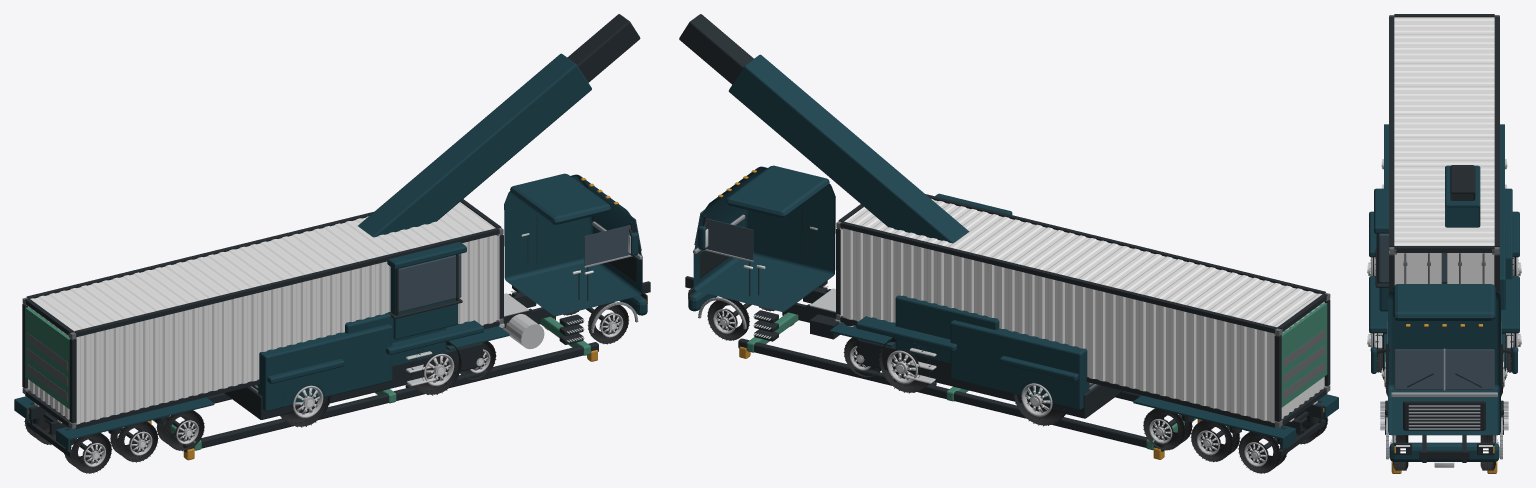
File: terra-fleet.glb
The picture shows the model from 3 angles, left to right: view 1: azimuth 30°, elevation 25°; view 2: azimuth 150°, elevation 25°; view 3: azimuth 270°, elevation 25°; orthographic projection. The views are drawn at different scales.
Parts seen in each view (by area): view 1: payload, tractor_body, crane_body, crane_boom, spreader, trailer, trailer_body, crane_extension, tractor, crane_wheel_1_-1, crane_wheel_0_-1; view 2: payload, tractor_body, crane_body, crane_boom, spreader, trailer, trailer_body, crane, crane_extension, tractor; view 3: payload, tractor_body, crane_body, crane_boom, crane_extension, tractor, trailer_body, crane, crane_wheel_1_-1.
Part boxes in pixels (x1,y1,x2,y2): payload: (22, 199, 503, 428); tractor_body: (445, 173, 650, 384); crane_body: (224, 242, 483, 419); crane_boom: (358, 53, 591, 237); spreader: (147, 316, 598, 460); trailer: (24, 410, 204, 473); trailer_body: (14, 293, 532, 457); crane_extension: (567, 14, 640, 82); tractor: (460, 302, 629, 379); crane_wheel_1_-1: (409, 341, 462, 395); crane_wheel_0_-1: (279, 374, 331, 427); payload: (836, 194, 1330, 427); tractor_body: (685, 165, 896, 382); crane_body: (856, 193, 1122, 418); crane_boom: (728, 54, 969, 243); spreader: (738, 311, 1201, 459); trailer: (1143, 408, 1327, 473); trailer_body: (806, 288, 1338, 456); crane: (878, 337, 1067, 426); crane_extension: (679, 14, 753, 84); tractor: (707, 297, 880, 377); payload: (1389, 14, 1499, 292); tractor_body: (1371, 284, 1517, 467); crane_body: (1369, 188, 1519, 379); crane_boom: (1445, 165, 1480, 227); crane_extension: (1450, 165, 1475, 200); tractor: (1381, 368, 1507, 470); trailer_body: (1384, 124, 1504, 188); crane: (1501, 257, 1521, 372); crane_wheel_1_-1: (1367, 333, 1387, 372).
Bounding box in the file's own units: 17.04 × 8.26 × 3.39.
